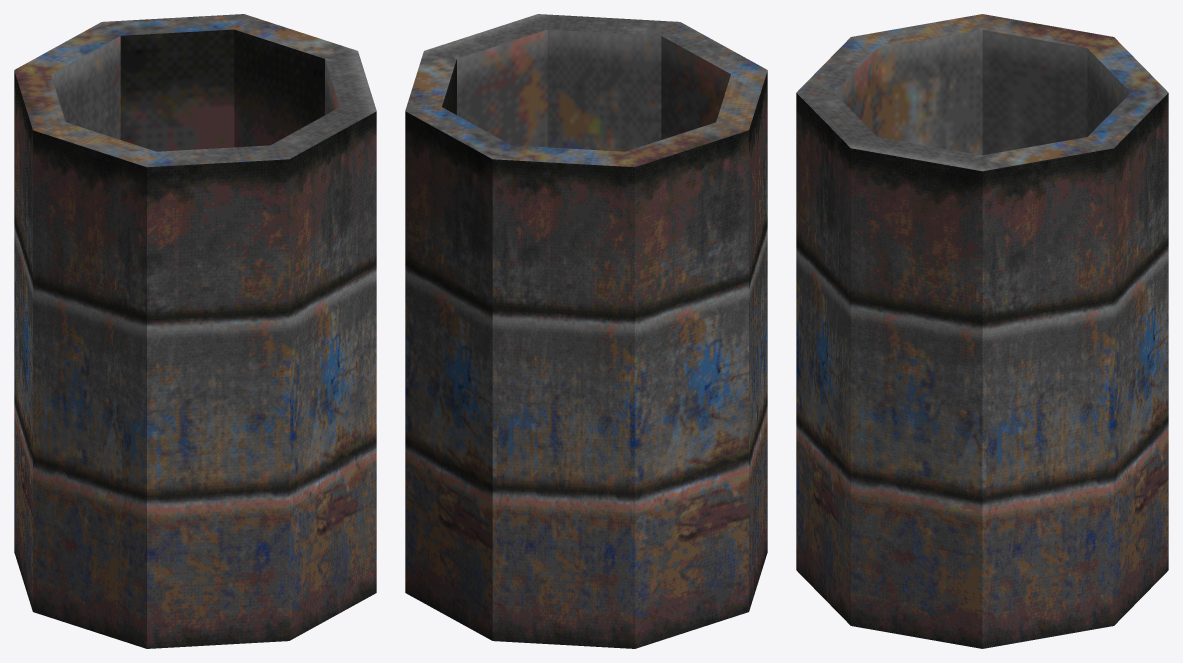
Rendered from barrel.fbx.
3 views of the same model, side by side, from view 1: azimuth 30°, elevation 25°; view 2: azimuth 150°, elevation 25°; view 3: azimuth 270°, elevation 25° (orthographic).
Visible parts, largest first — view 1: Cylinder; view 2: Cylinder; view 3: Cylinder.
Boxes of the visible parts, x1,y1,x2,y2 form: Cylinder: [14, 14, 376, 648]; Cylinder: [405, 14, 767, 648]; Cylinder: [796, 14, 1168, 648].
Bounding box in the file's own units: 200 × 283 × 200.
Materials: 1 (1 with a texture image).
